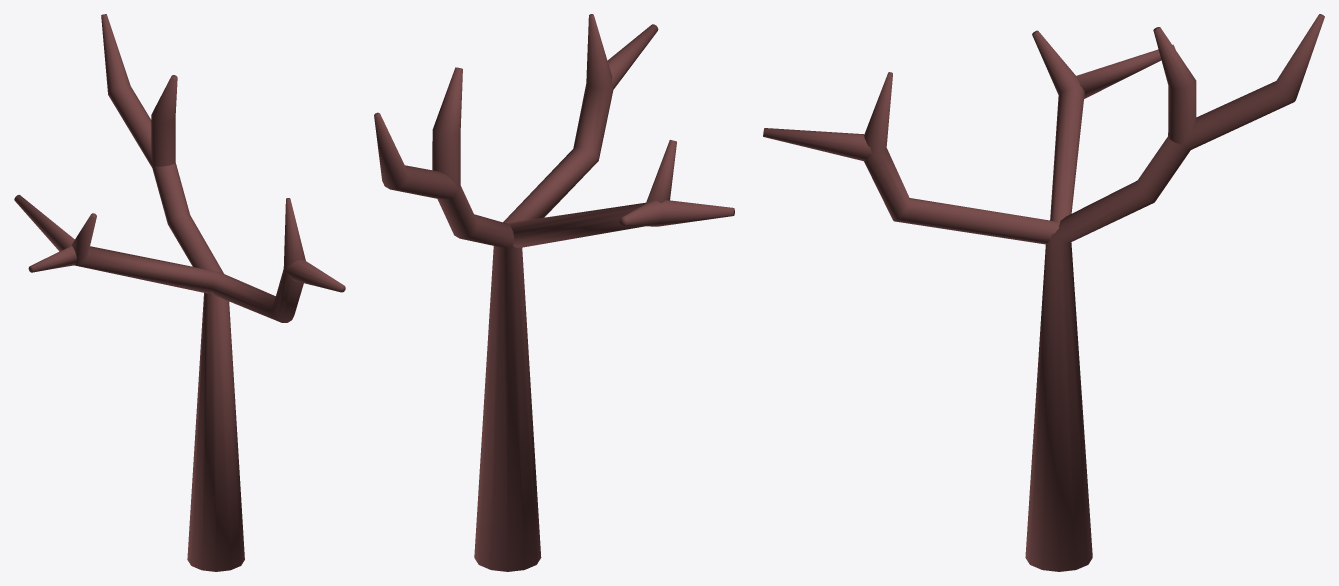
Rendered from tree 3.fbx.
The picture shows the model from 3 angles, left to right: view 1: azimuth 30°, elevation 25°; view 2: azimuth 150°, elevation 25°; view 3: azimuth 270°, elevation 25°; orthographic projection. The views are drawn at different scales.
Visible parts, largest first — view 1: Cube.002; view 2: Cube.002; view 3: Cube.002.
Part boxes in pixels (x1,y1,x2,y2): Cube.002: (14, 14, 345, 571); Cube.002: (374, 14, 734, 571); Cube.002: (763, 14, 1324, 571).
Bounding box in the file's own units: 205 × 421 × 395.
